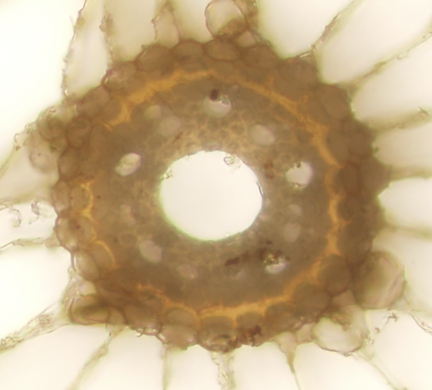lm: (158, 149, 263, 240)
